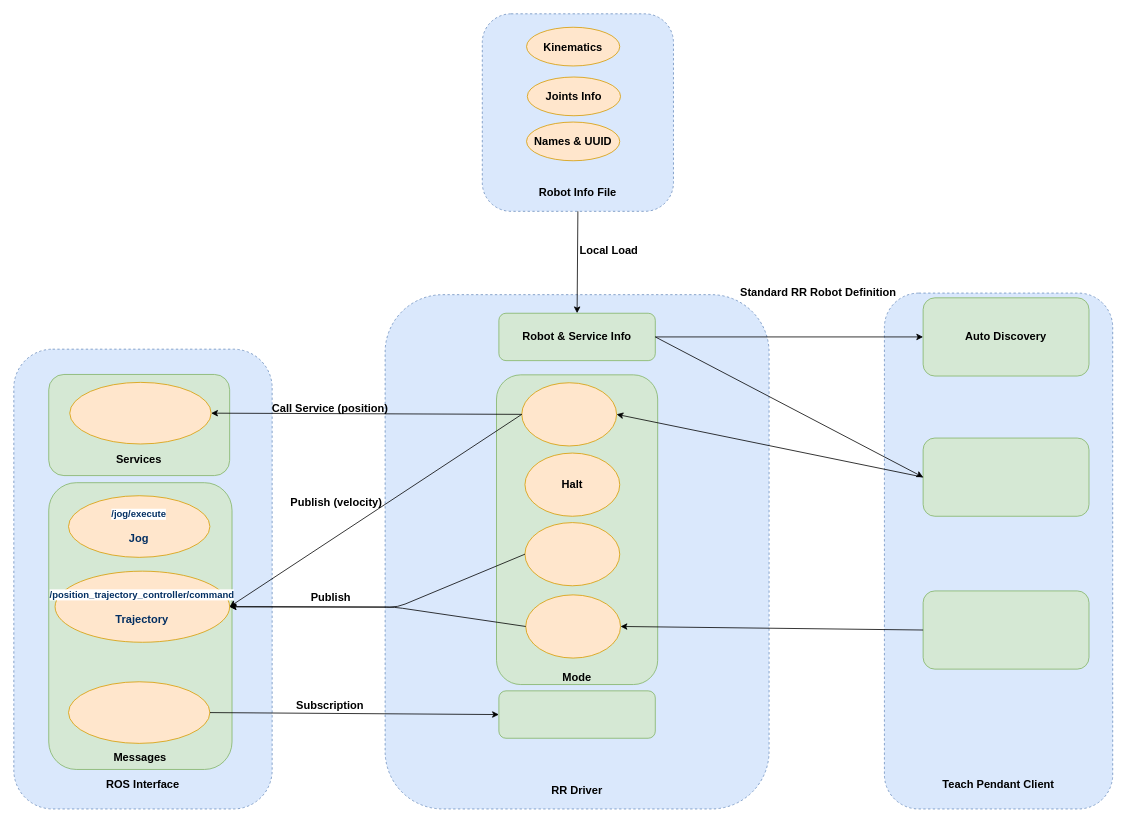
The diagram is 1127 pixels wide and 823 high, and some of its shapes have lost their labels. Each missing label, with the centre of its shape:
/jog/absolute/set_joints Jog: the point at 140,413
/joint_states Joint State: the point at 139,712
IK/FK/QP Jogging: the point at 1005,476
Jog Command: the point at 569,414
Joint States: the point at 576,714
Play Back: the point at 1005,629
Position Command: the point at 572,554
Trajectory Command: the point at 573,626
